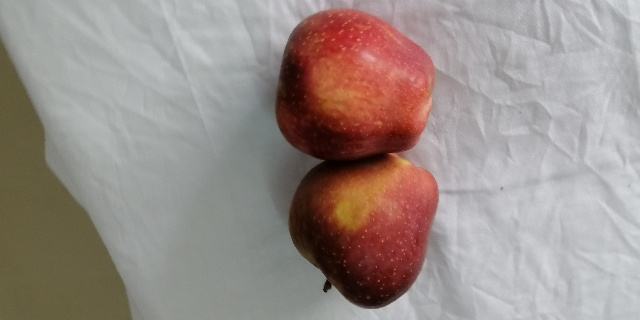apple_kashmir: (288, 139, 439, 310), (274, 7, 436, 160)
